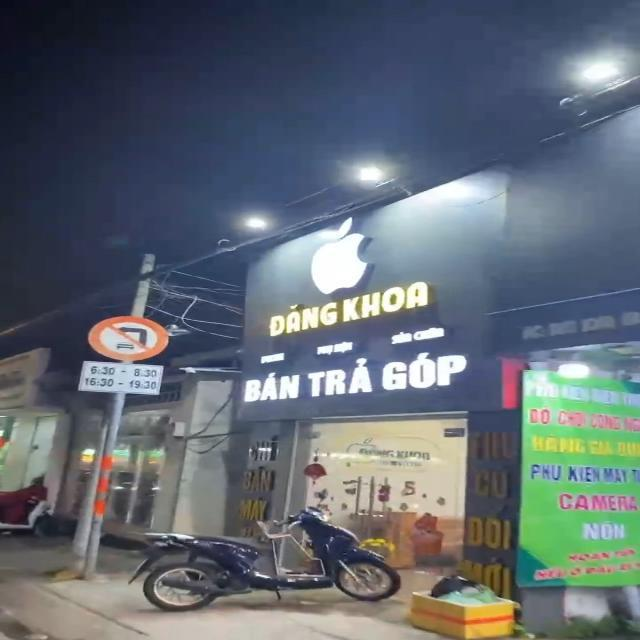123a-cam-re-trai: (87, 314, 171, 360)
